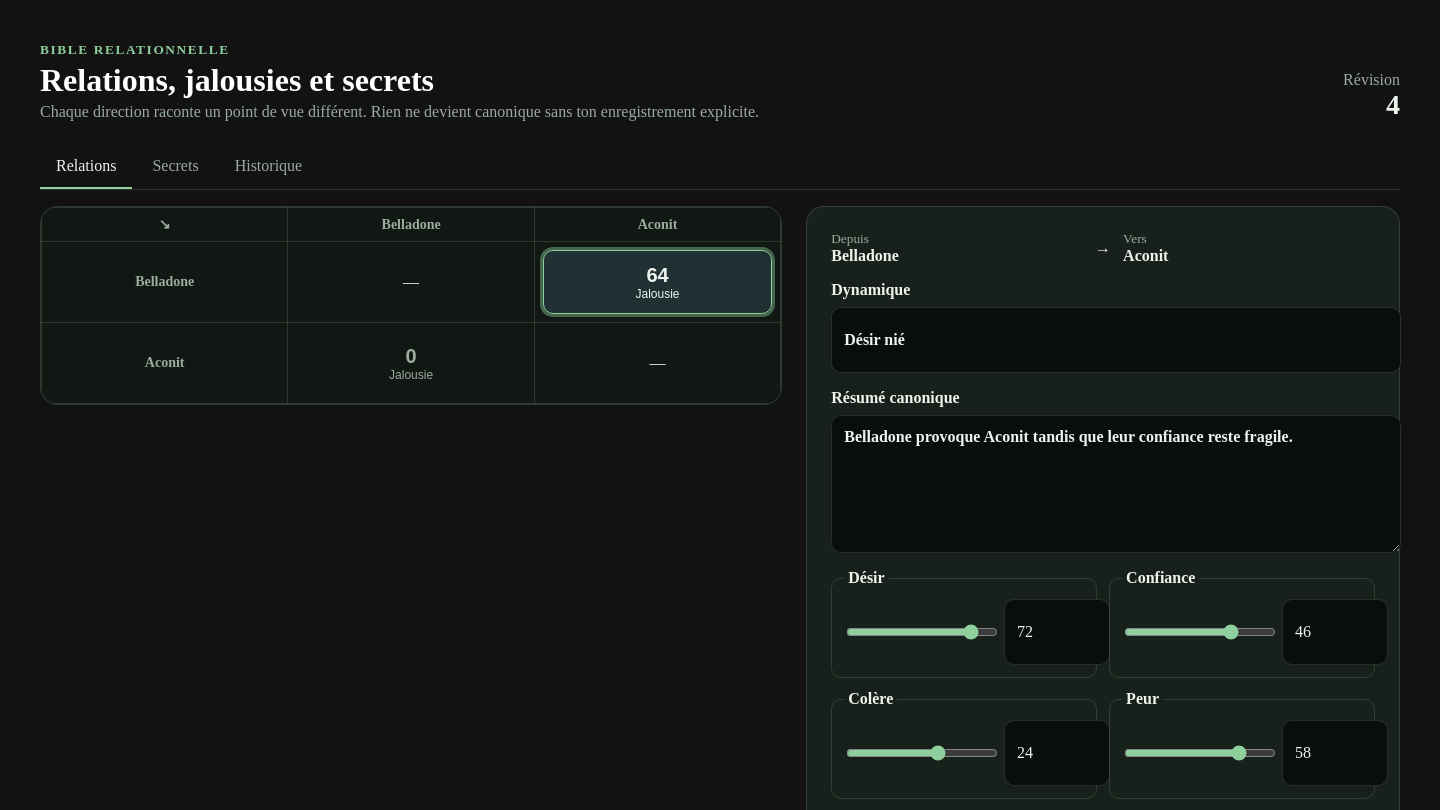
Scenario: RelationshipBoard › shows explicit secret knowledge and generates a non-canonical preview
What coordinates should you click on to do the following:
click the tab "Secrets"
I would click on:
 (176, 167)
Its box is [136,145,215,189].
(page scrolled)
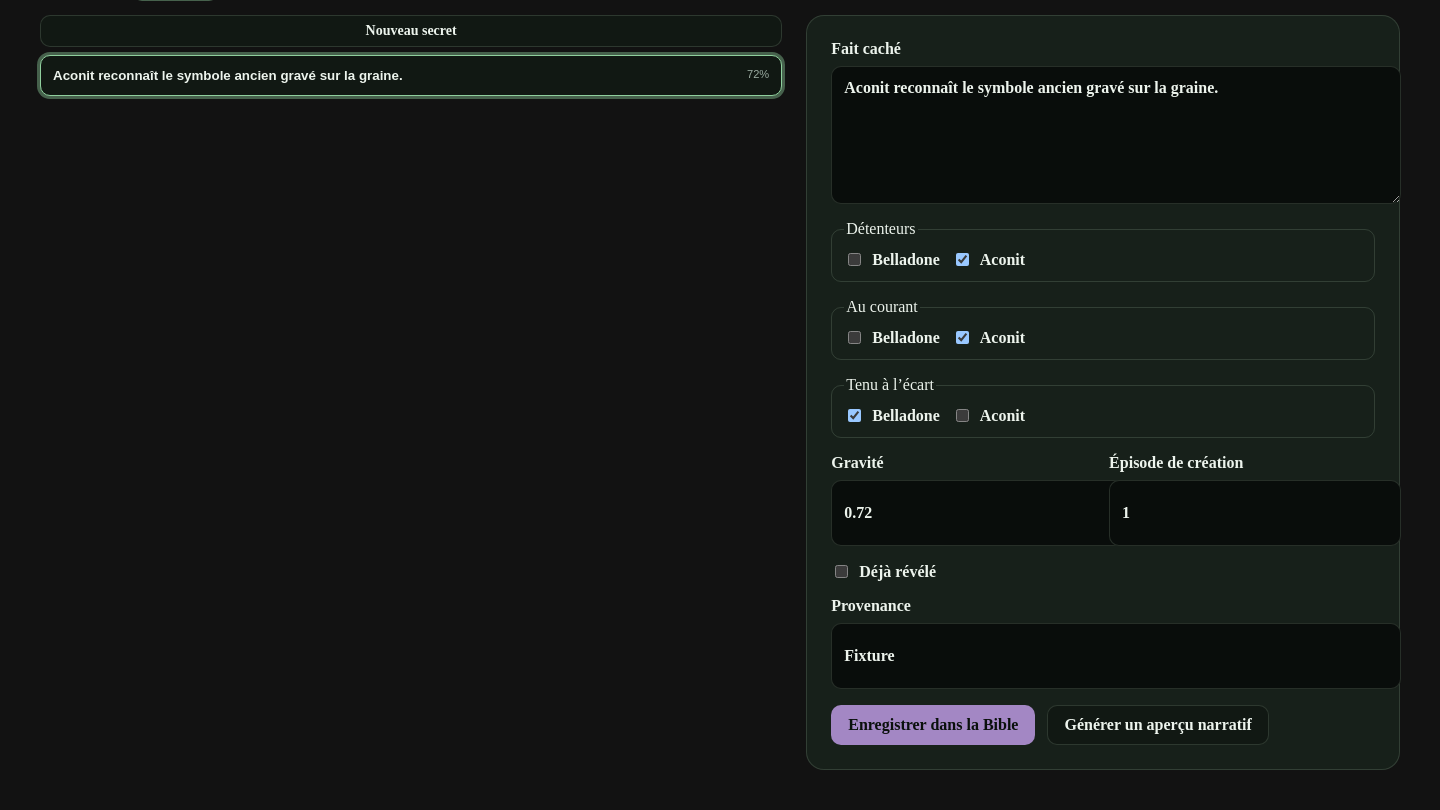
expect the text box showing "Aconit reconnaît le symbole ancien gravé sur la graine." is shown: met, box [831,66,1401,204]
expect the element "Détenteurs" is shown: met, box [831,220,1375,282]
expect the element "Au courant" is shown: met, box [831,298,1375,360]
What coordinates should you click on to do the following:
click the button "Générer un aperçu narratif"
I would click on:
 (1158, 725)
Its box is [1048,705,1269,745].
(page scrolled)
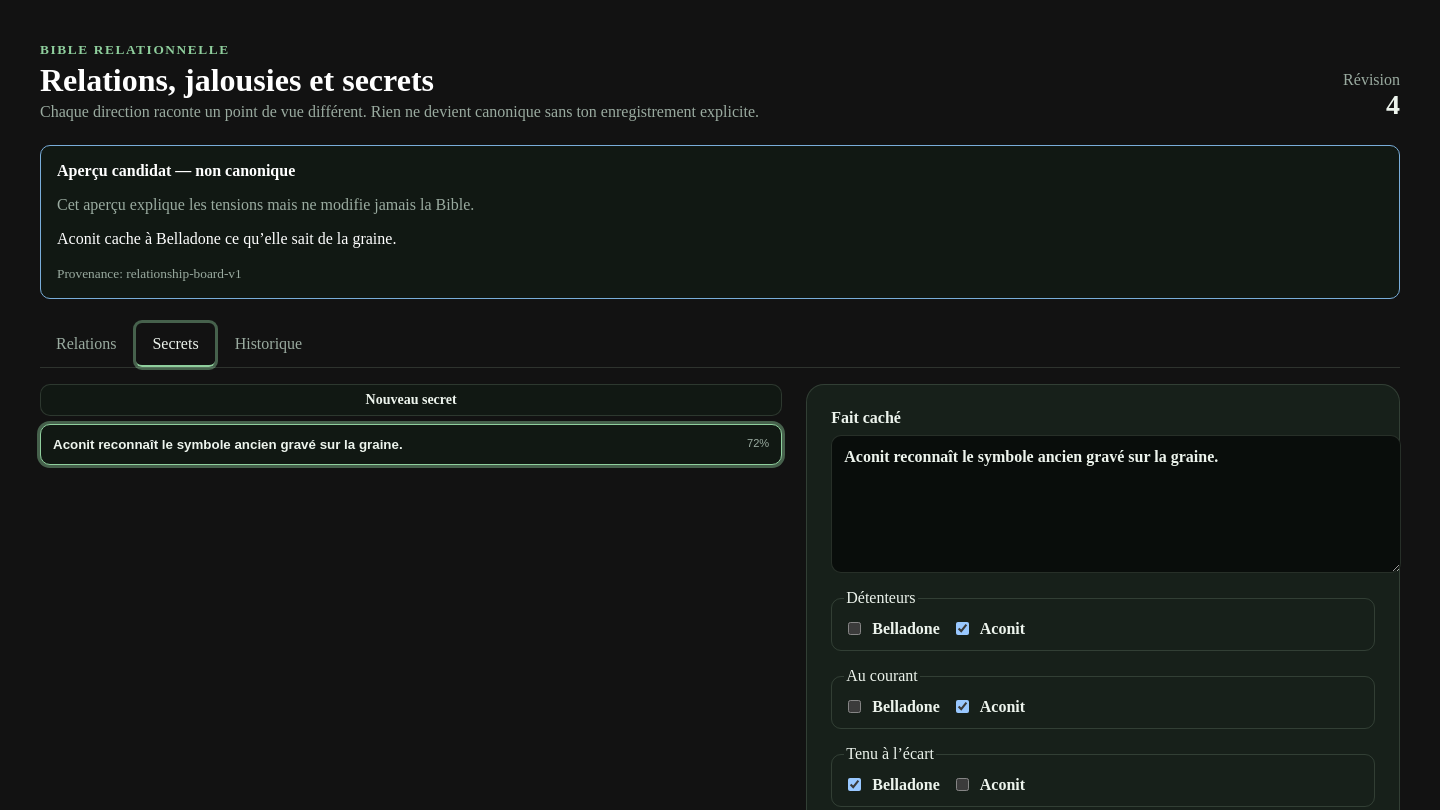
expect the text "Aperçu candidat — non canonique" is shown: met, box [57,162,295,179]
expect the text "Aconit cache à Belladone ce qu’elle sait de la graine." is shown: met, box [57,230,396,247]
